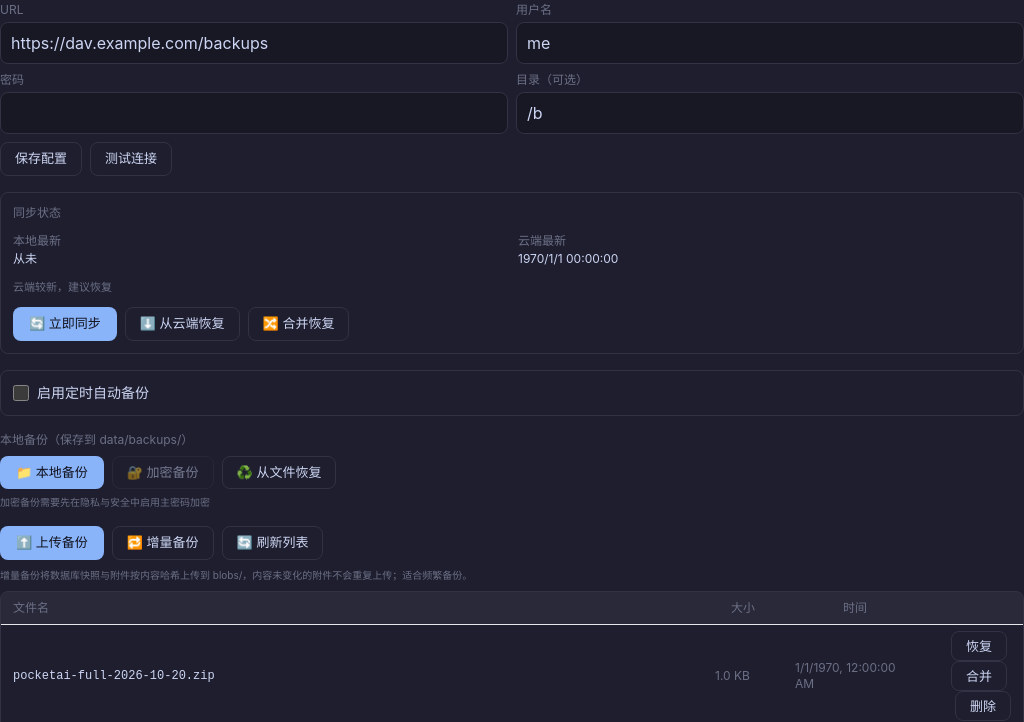
Test: §324② 恢复那发：迟到的回执不许改弹窗目标，也不许清掉正在输入的密码 › A 那发迟到的「需要备份密码」不许把目标改回 A ⇒ 重试发出去的是 B
Click the 1st button "恢复". click: (979, 646)
box: [951,630,1007,660]
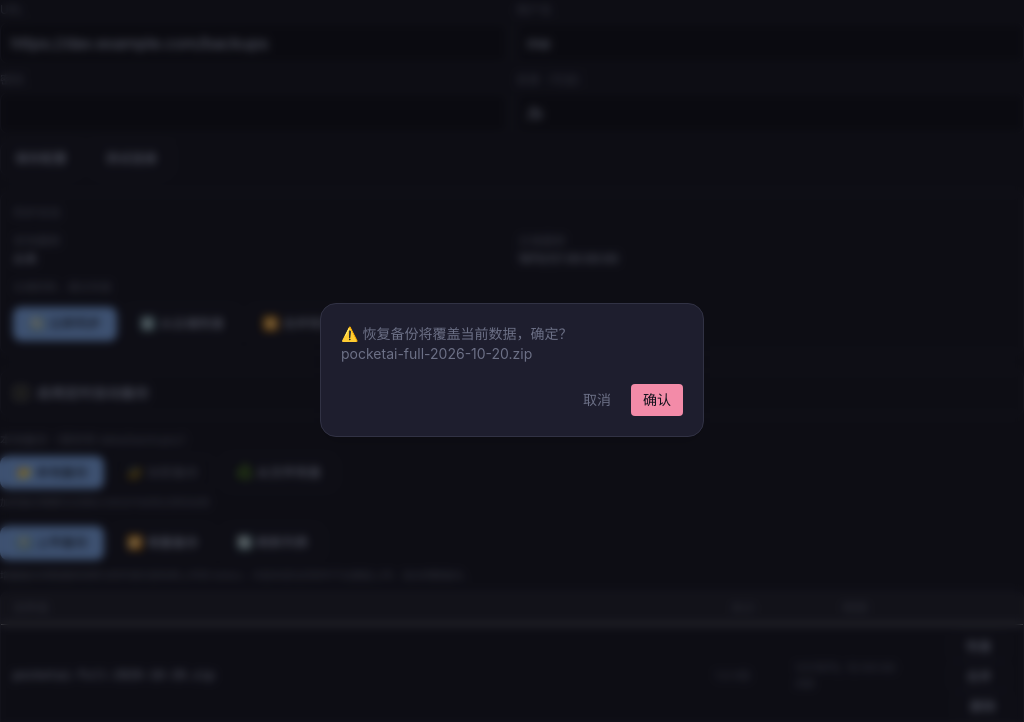
Click the button "确认". click: (657, 400)
box: [631,384,683,416]
(page scrolled)
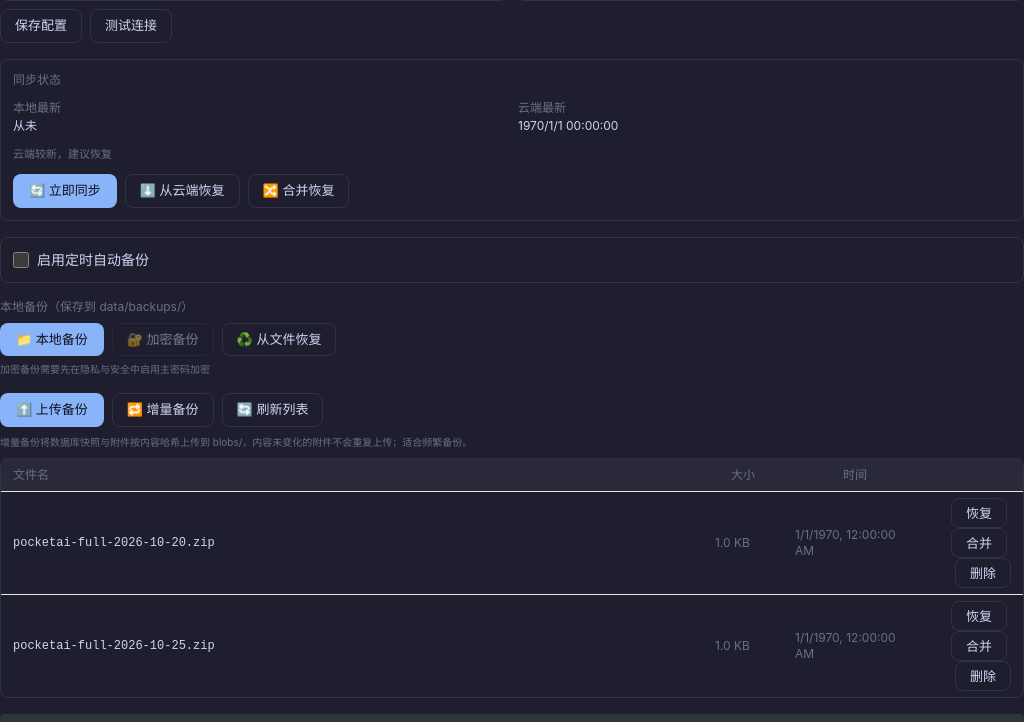
Click the 2nd button "恢复". click: (979, 616)
box: [951,600,1007,630]
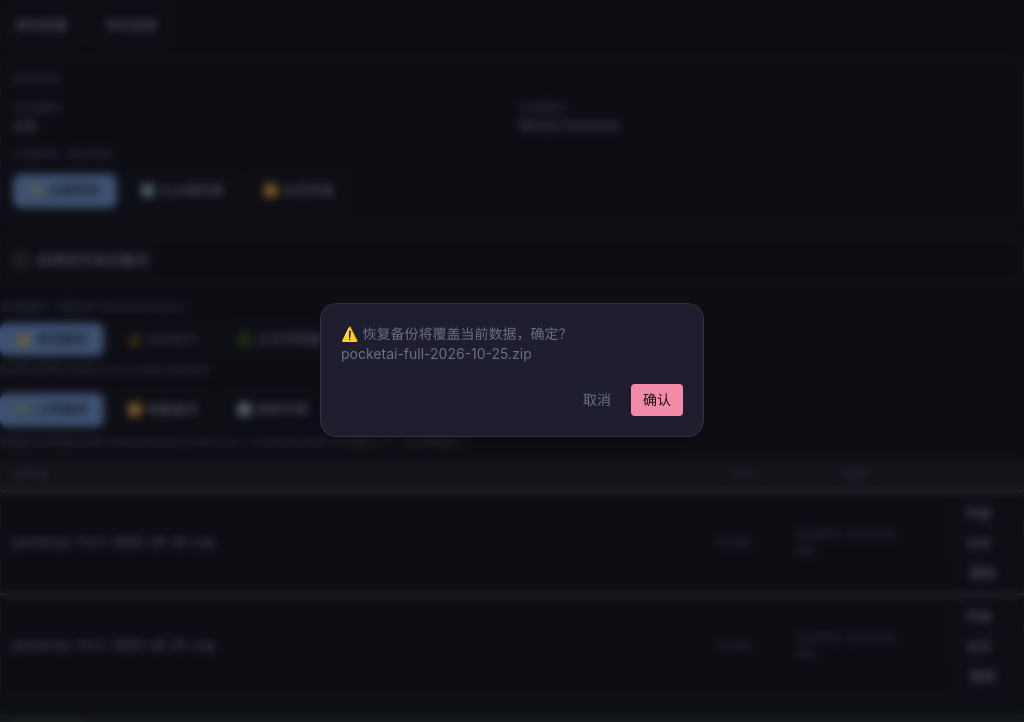
Click the button "确认". click: (657, 400)
box: [631,384,683,416]
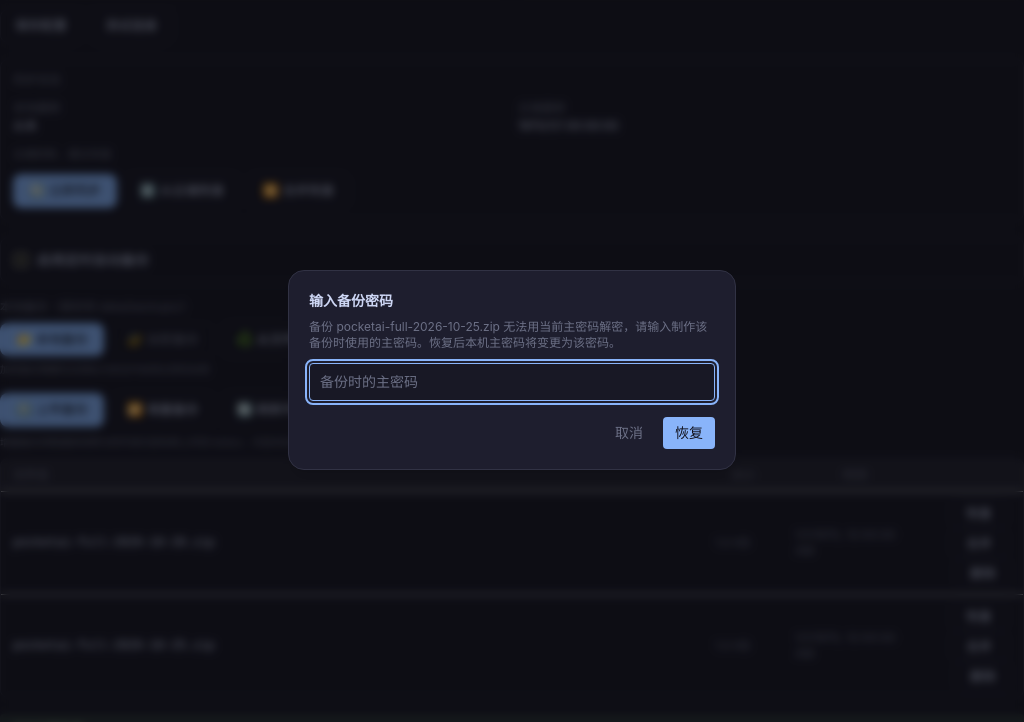
Expected: the text "pocketai-full-2026-10-25.zip" is shown, [1,594,703,696]
Result: the text "输入备份密码" is shown at [309,292,393,309]
Type "备份密码" into the password field with placeholder "备份时的主密码". click: (512, 382)
box: [309,363,715,401]
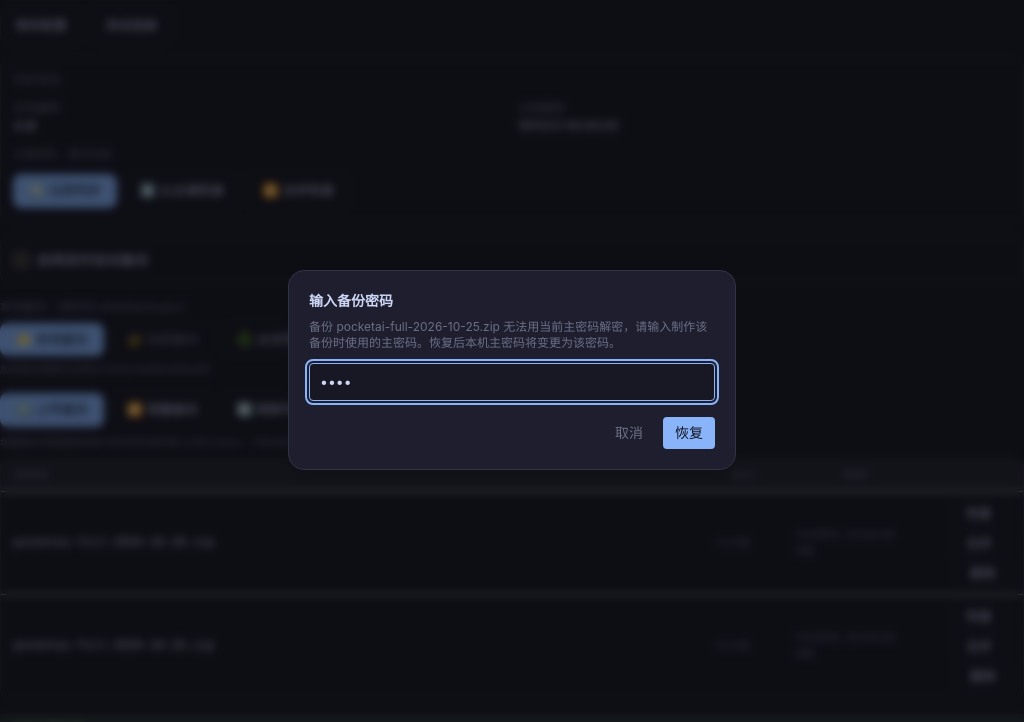
Click the button "恢复". click: (689, 433)
box: [663,417,715,449]
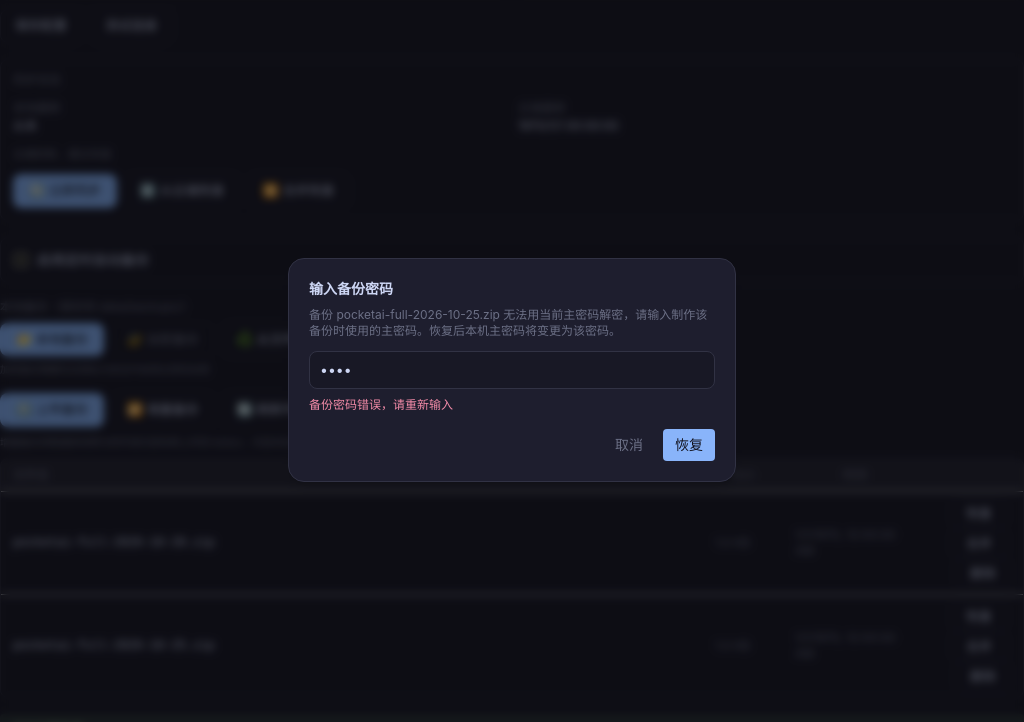
Expected: the text "pocketai-full-2026-10-25.zip" is shown, [1,594,703,696]
Result: the password field with placeholder "备份时的主密码" below "输入备份密码" is enabled at [309,351,715,389]
Result: the text "备份密码错误，请重新输入" is shown at [309,397,453,412]
